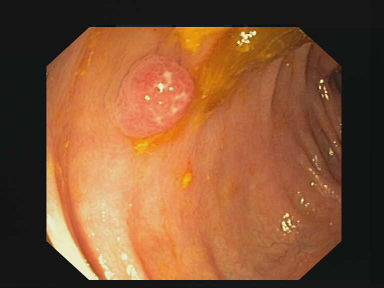polyp: (116, 55, 195, 136)
